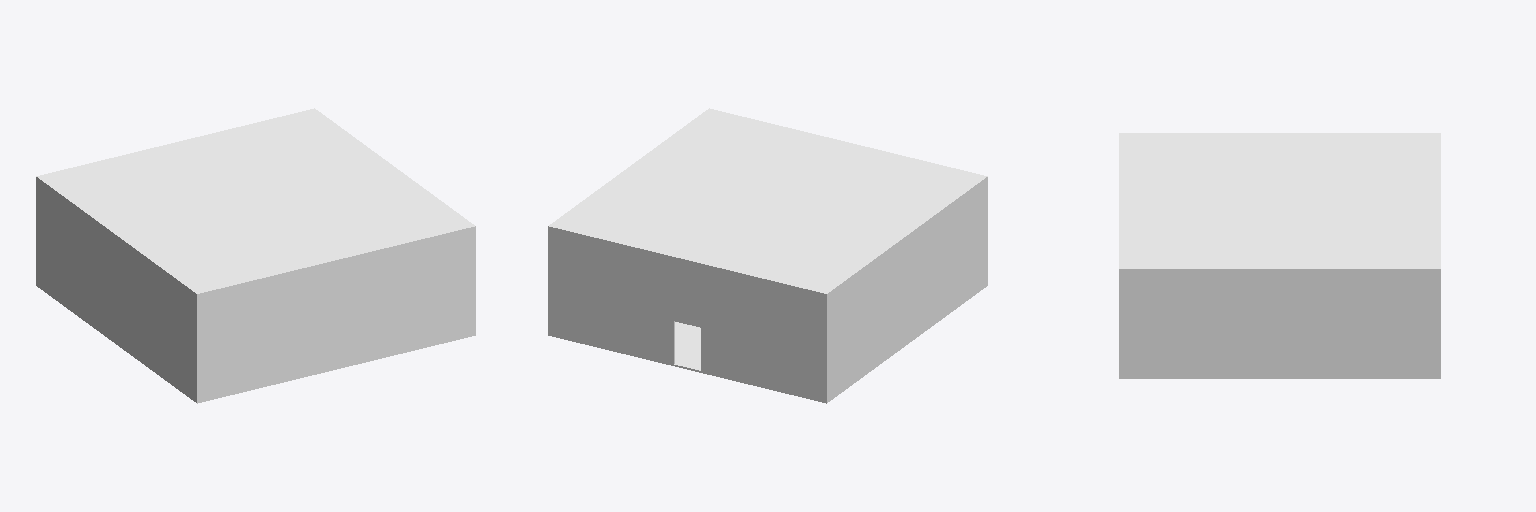
File: Generic-Room.obj
3 renders of one model, left to right at view 1: azimuth 30°, elevation 25°; view 2: azimuth 150°, elevation 25°; view 3: azimuth 270°, elevation 25°, orthographic.
Visible parts, largest first — view 1: Generic-Room; view 2: Generic-Room; view 3: Generic-Room.
Boxes of the visible parts, box(x1,y1,x2,y2) form: Generic-Room: box(36, 108, 475, 403); Generic-Room: box(548, 108, 987, 403); Generic-Room: box(1119, 133, 1440, 378).
Size of the model in its own units: 15.2 by 5.7 by 15.2.